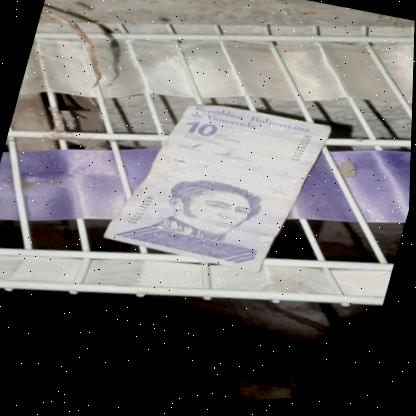ten-front-vef: (102, 82, 335, 292)
